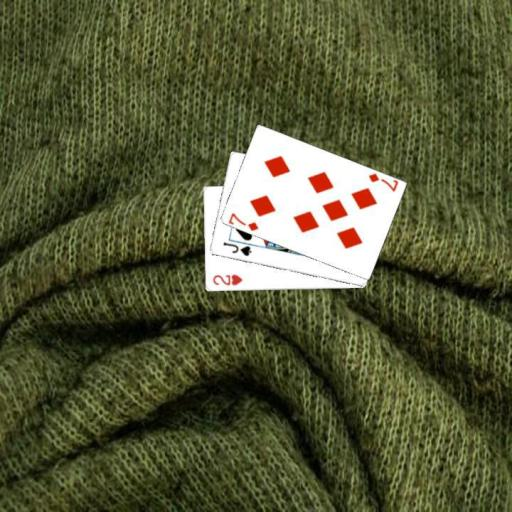2H: (209, 272, 244, 287)
7D: (226, 210, 260, 233), (365, 171, 399, 194)
JS: (220, 239, 252, 257)
